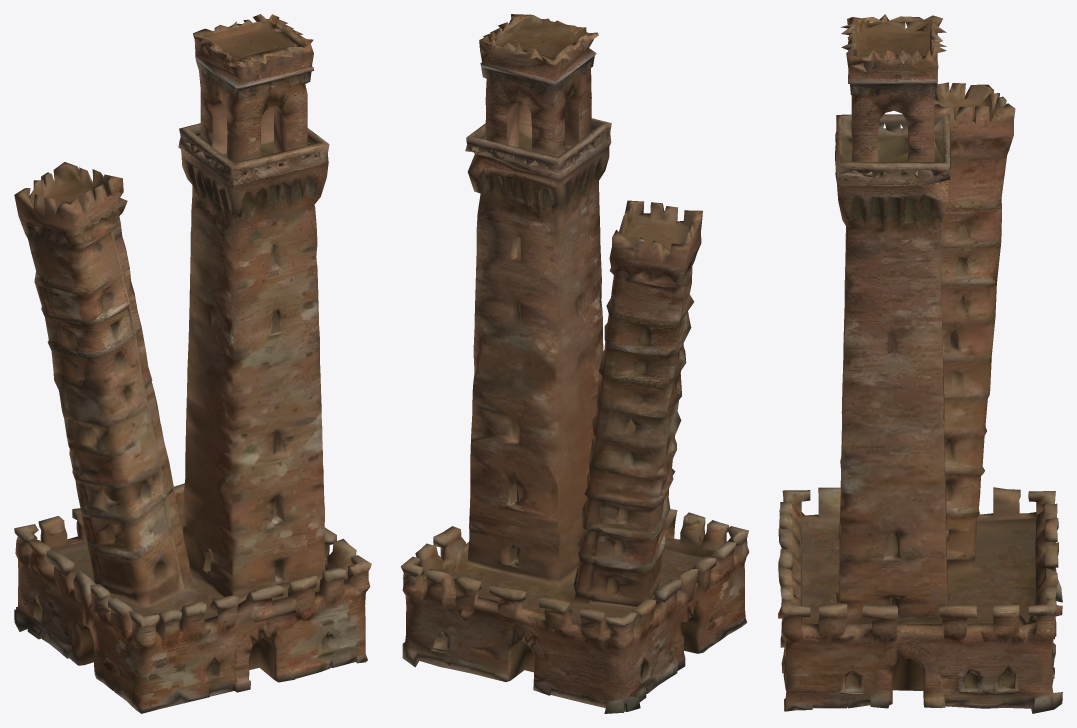
File: due_torri.glb
3 renders of one model, left to right at view 1: azimuth 30°, elevation 25°; view 2: azimuth 150°, elevation 25°; view 3: azimuth 270°, elevation 25°, orthographic. The views are drawn at different scales.
Visible parts, largest first — view 1: tripo_node_9b32cf11-82b4-4f1f-8753-3d36a735d1d8; view 2: tripo_node_9b32cf11-82b4-4f1f-8753-3d36a735d1d8; view 3: tripo_node_9b32cf11-82b4-4f1f-8753-3d36a735d1d8.
Part boxes in pixels (box(x1,y1,x2,y2)): tripo_node_9b32cf11-82b4-4f1f-8753-3d36a735d1d8: box(14, 14, 371, 713); tripo_node_9b32cf11-82b4-4f1f-8753-3d36a735d1d8: box(400, 14, 749, 713); tripo_node_9b32cf11-82b4-4f1f-8753-3d36a735d1d8: box(778, 14, 1062, 713).
Bounding box in the file's own units: 44.42 × 97 × 38.61.
1 material, 1 textured.
